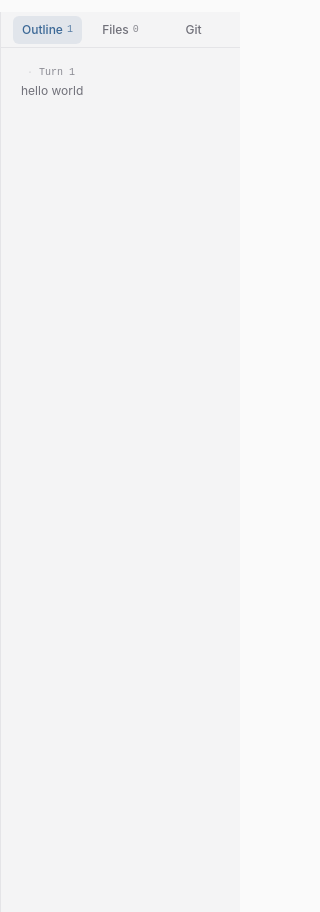
Test: ChatContextSidebar › switches to FilesView when Files tab clicked
The width and height of the screenshot is (320, 912).
Click the tab "Files 0" at point(120, 30), box [86,16,155,44]
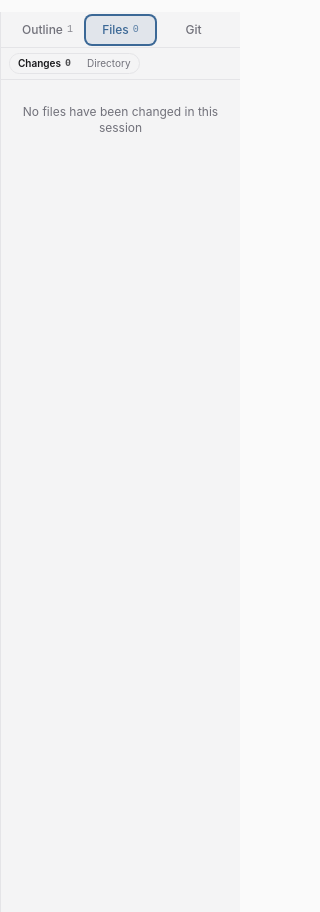
Check: the text "No files have been changed in this session" is shown, box [23,104,218,135]
